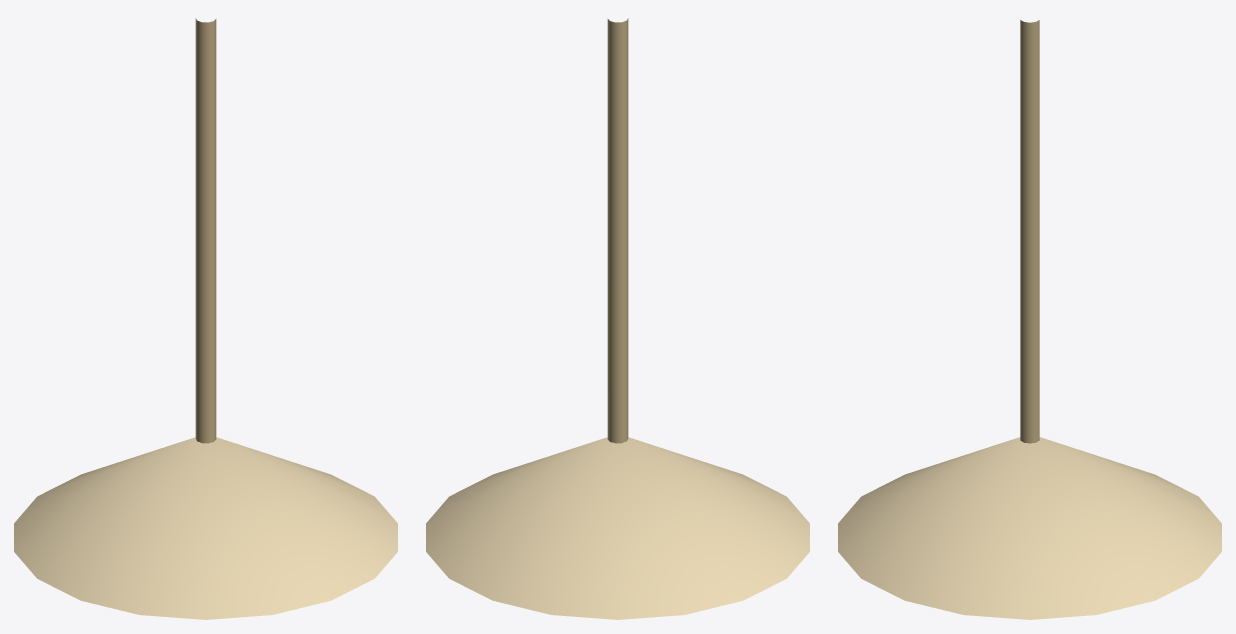
Rendered from pendant.glb.
3 renders of one model, left to right at view 1: azimuth 30°, elevation 25°; view 2: azimuth 150°, elevation 25°; view 3: azimuth 270°, elevation 25°, orthographic.
Visible parts, largest first — view 1: pendant; view 2: pendant; view 3: pendant.
Boxes of the visible parts, box(x1,y1,x2,y2) form: pendant: box(14, 18, 397, 619); pendant: box(426, 18, 809, 619); pendant: box(838, 20, 1221, 619).
Size of the model in its own units: 0.68 by 1.11 by 0.6697.
